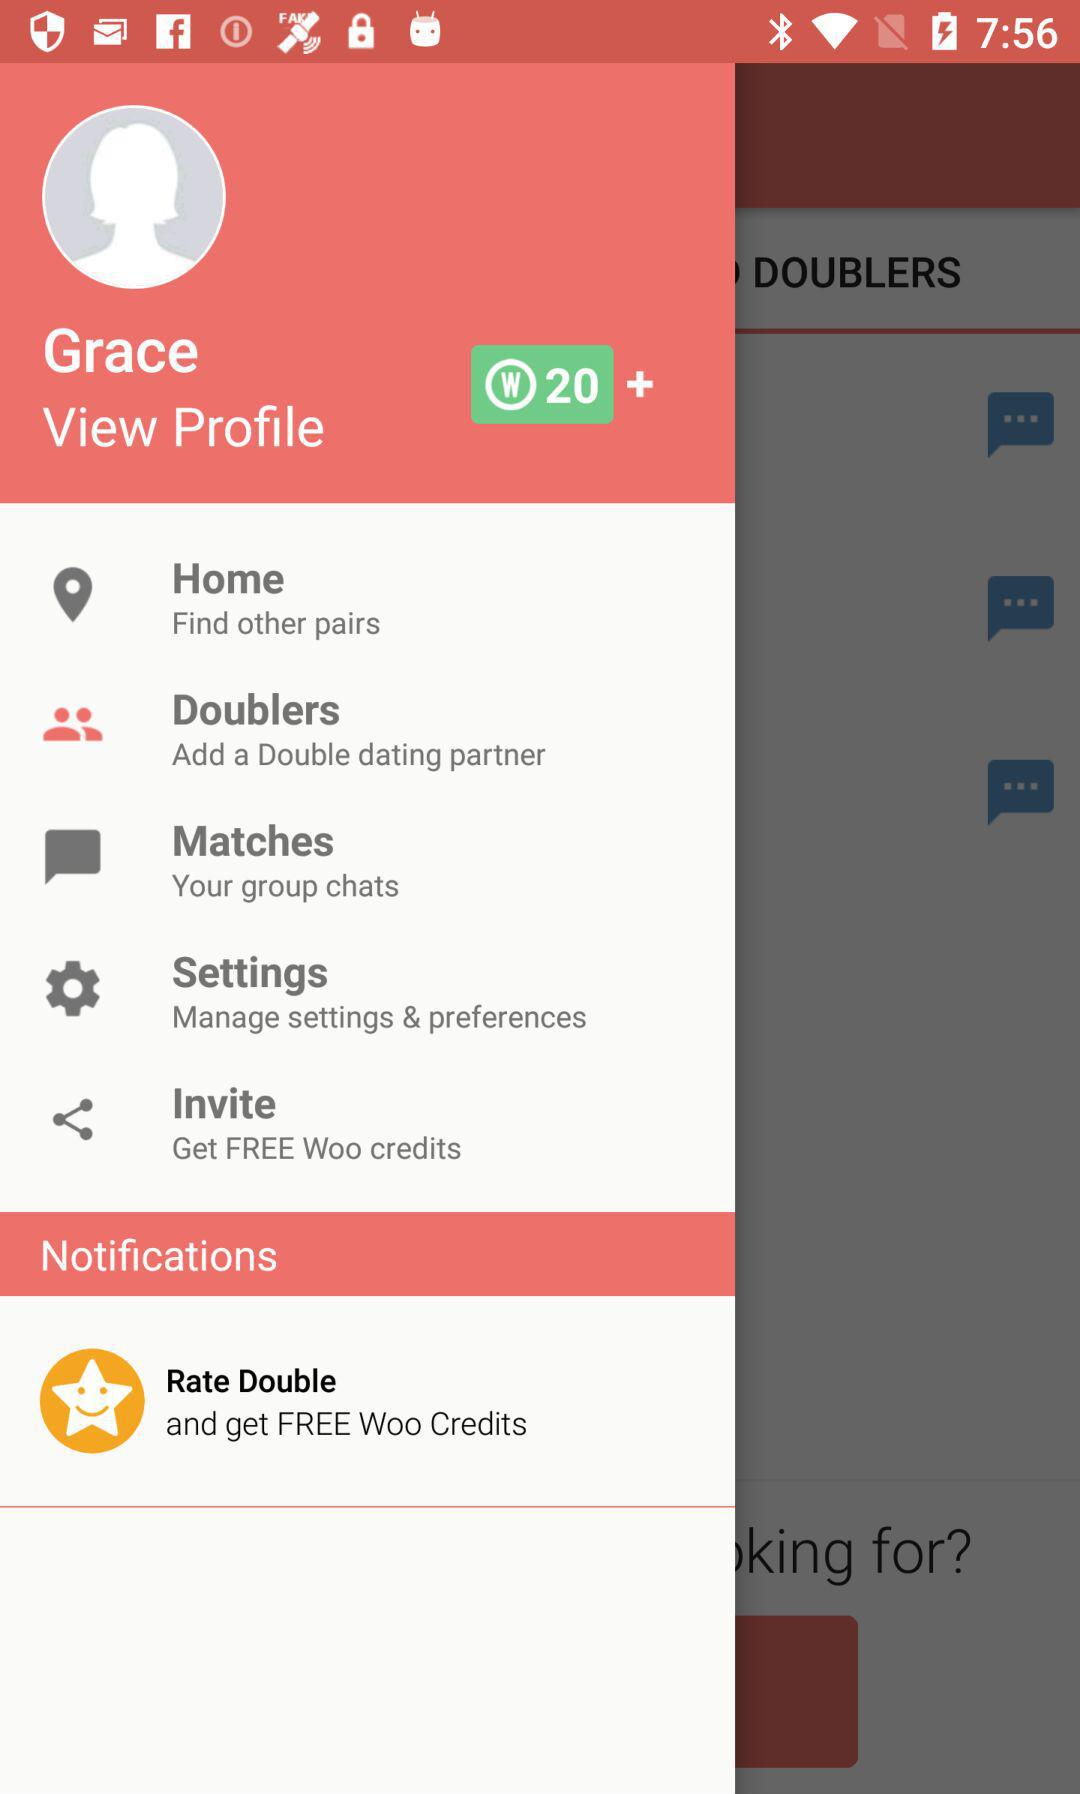Drawer: (1, 64, 734, 1794)
Icon: (41, 105, 228, 292), (40, 1348, 146, 1454), (44, 828, 102, 885), (46, 960, 102, 1017), (53, 566, 94, 625), (42, 706, 105, 743), (53, 1098, 95, 1142), (625, 369, 656, 400)
Text: (41, 404, 327, 451), (167, 1408, 528, 1444), (173, 1005, 588, 1035), (170, 741, 547, 773), (42, 1237, 279, 1274), (44, 327, 200, 377), (173, 1135, 462, 1162), (170, 873, 400, 903), (173, 955, 329, 998), (174, 610, 380, 642), (173, 692, 341, 727), (173, 823, 334, 859), (168, 1367, 337, 1395), (173, 563, 286, 596), (174, 1085, 277, 1120)
TextButton: (470, 345, 616, 425)
UpperTaskBar: (1, 1, 1080, 64)
